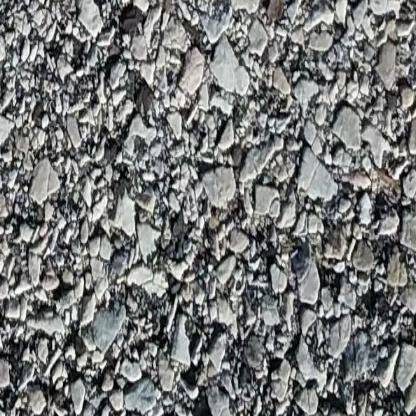Cracks: (411, 102, 416, 416)
